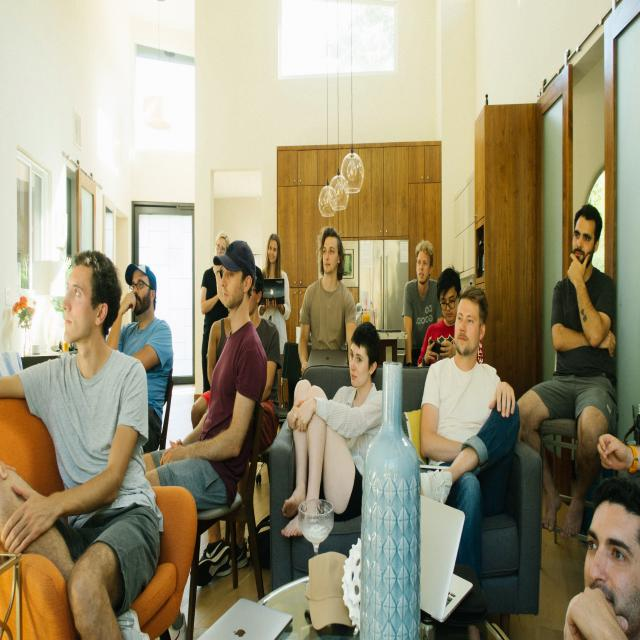adult: (0, 247, 163, 640), (137, 240, 269, 502), (414, 287, 510, 640), (280, 318, 387, 544), (517, 204, 614, 444), (559, 469, 640, 640), (104, 258, 169, 444), (296, 229, 355, 377), (258, 232, 290, 400), (402, 242, 443, 370), (415, 268, 464, 367)
